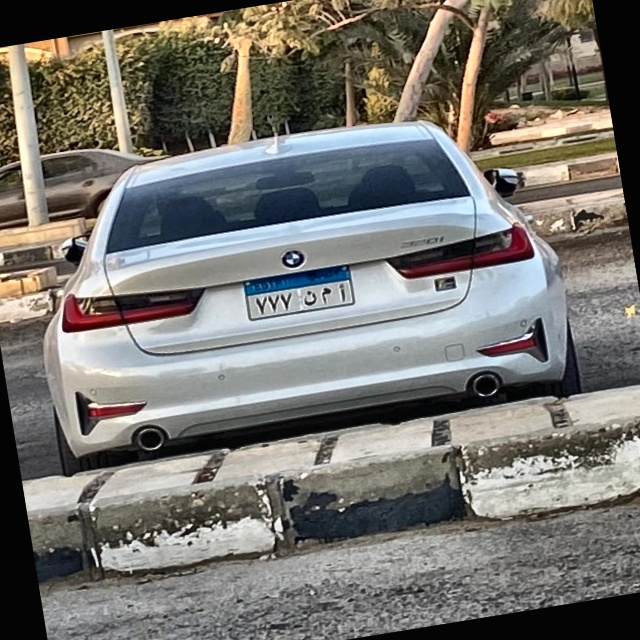License Plate: (241, 264, 356, 322)
